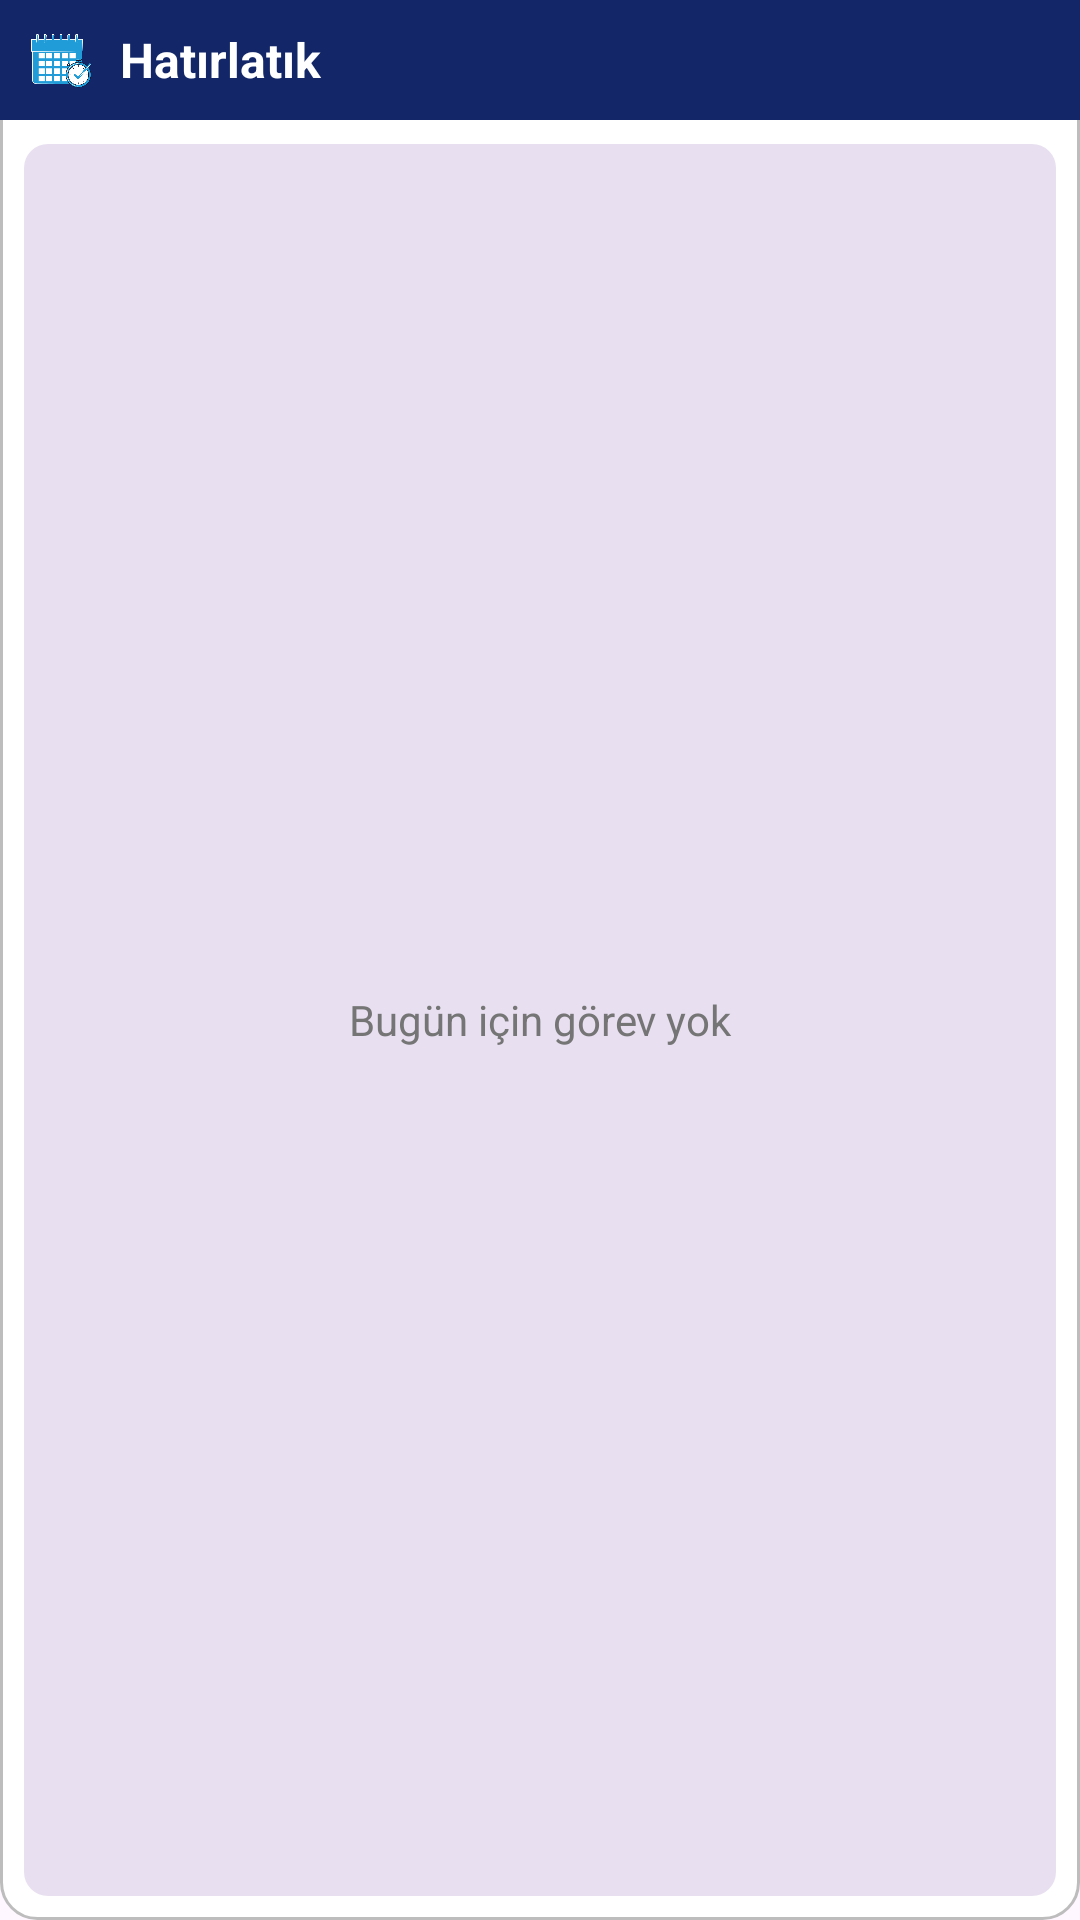

Named icons in this screenshot (1080w x 1920h) and their bounding boxes, BBox(x1, y1, x2, y2):
hatirlatikb: BBox(31, 34, 91, 88)
